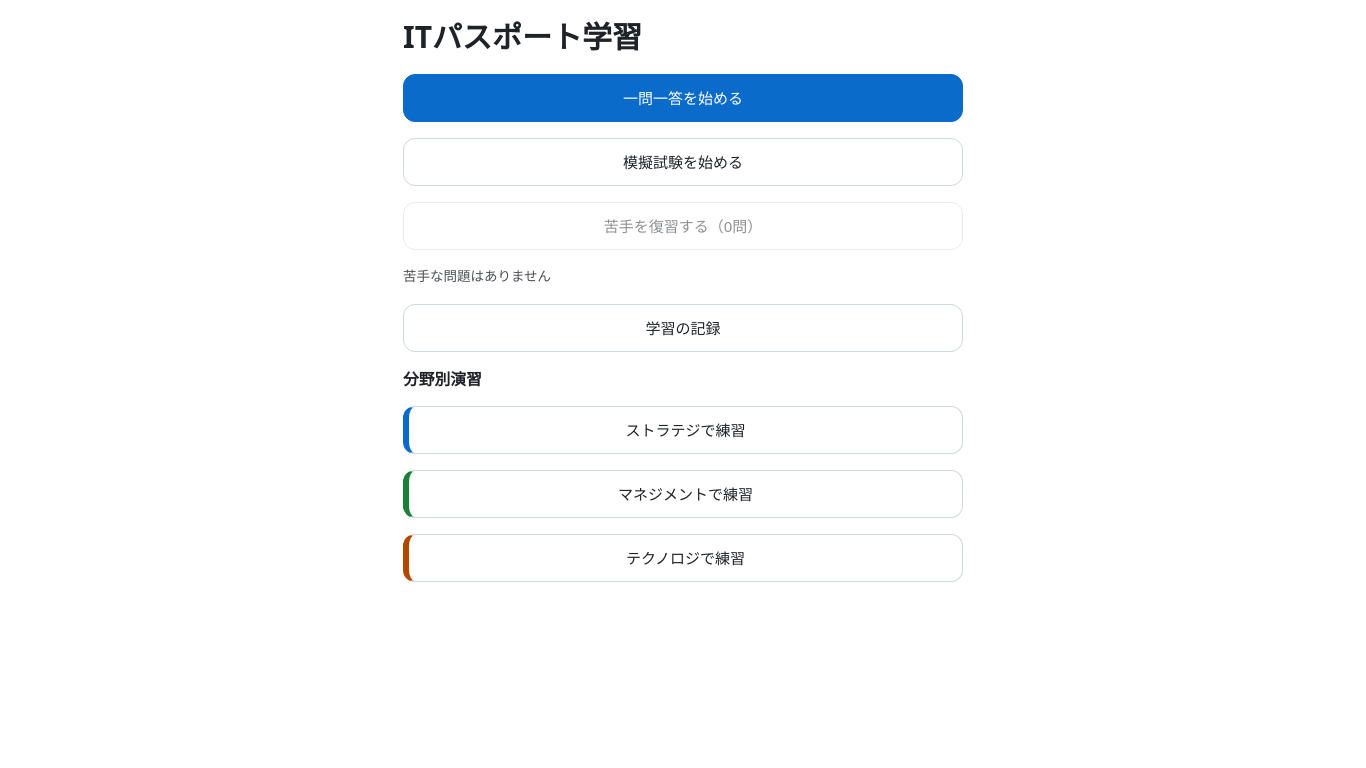
Test case: 分野別演習の履歴 › 解答するたびに正誤が保存され、間違えた問題は苦手の対象になる
Click the button "テクノロジで練習": (683, 558) [403,534,963,582]
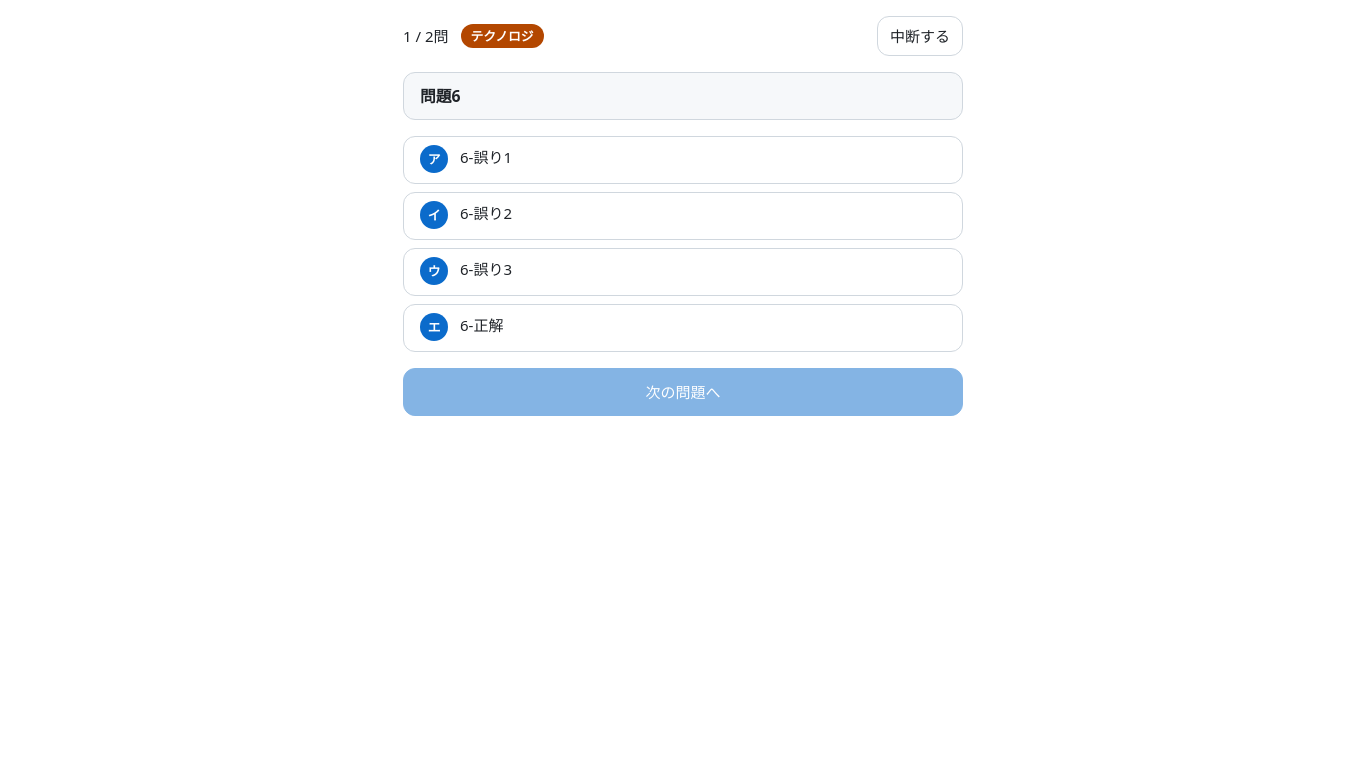
Click the button "ア 6-誤り1": (486, 157) [403,136,963,184]
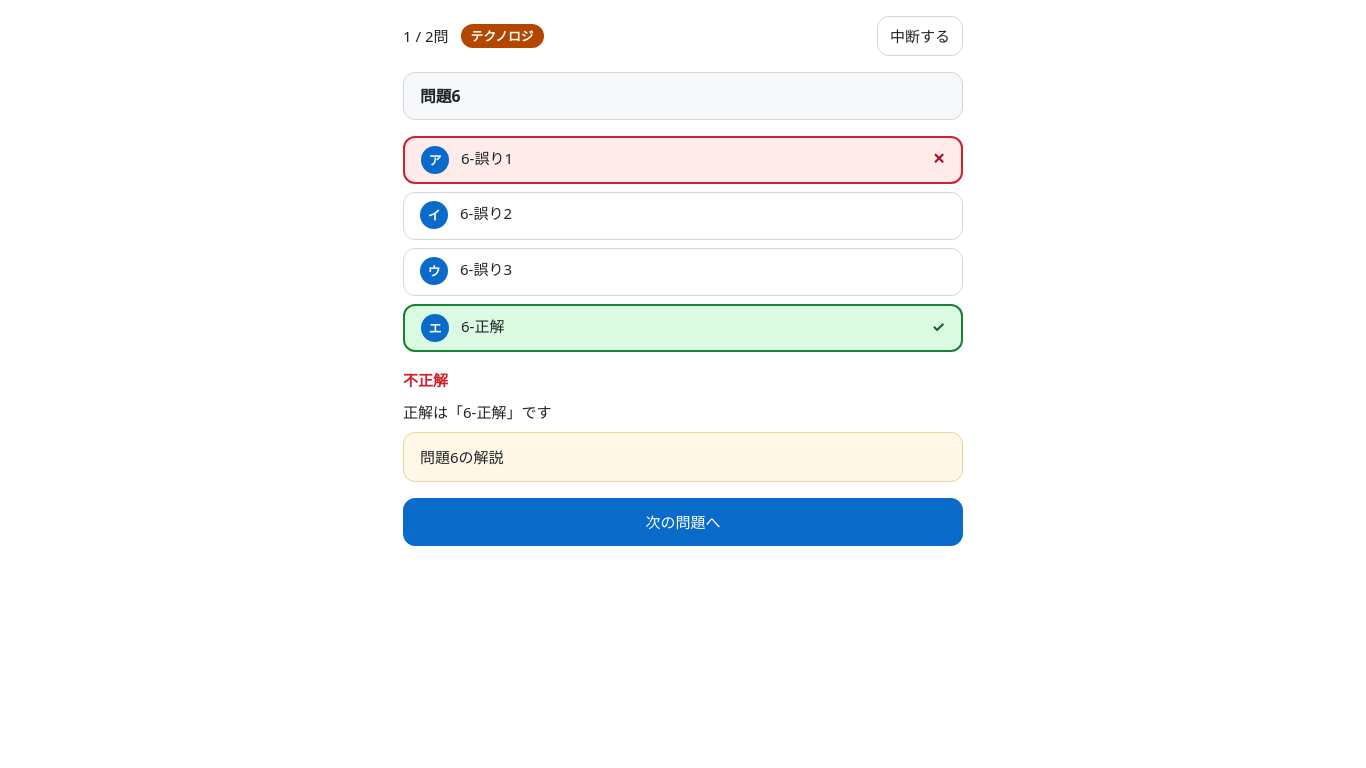
Click the button "中断する": (920, 36) [877,16,963,56]
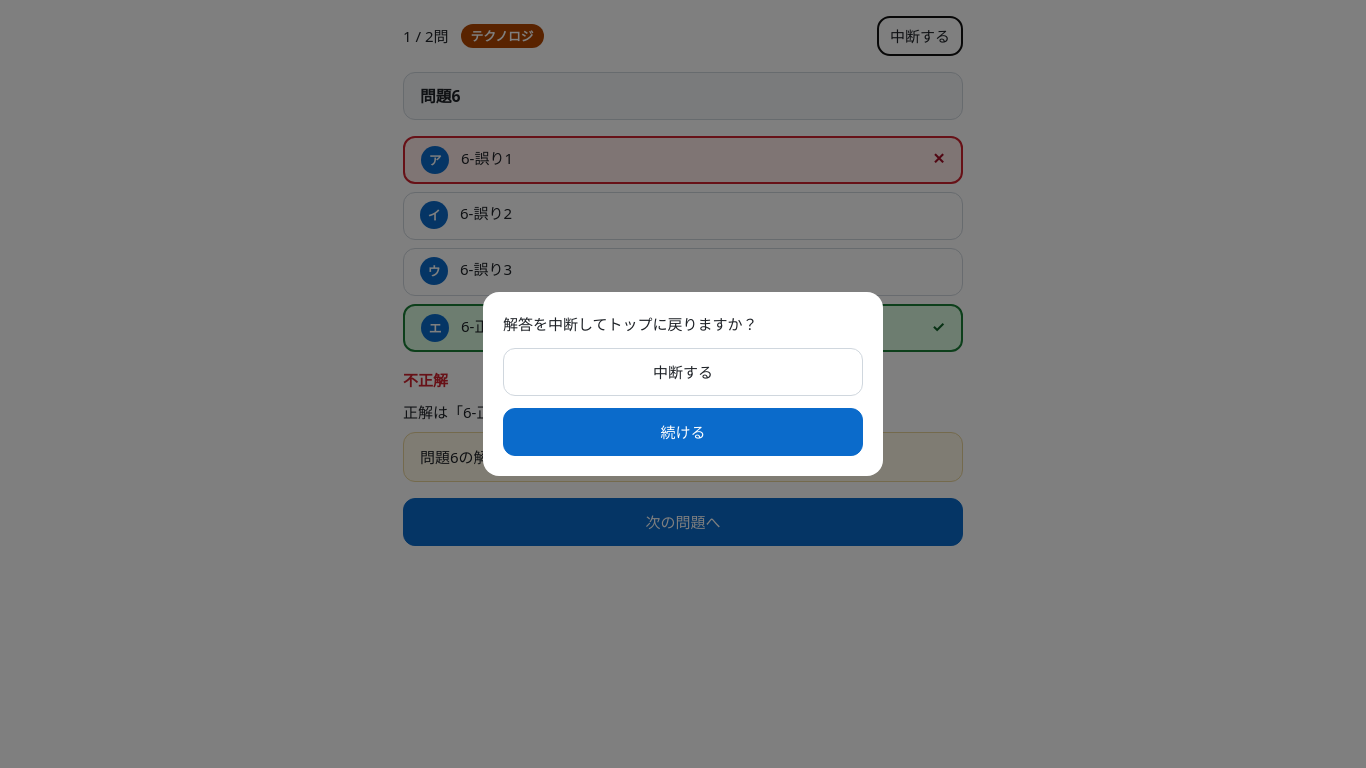
Click the button "中断する": (683, 372) [503,348,863,396]
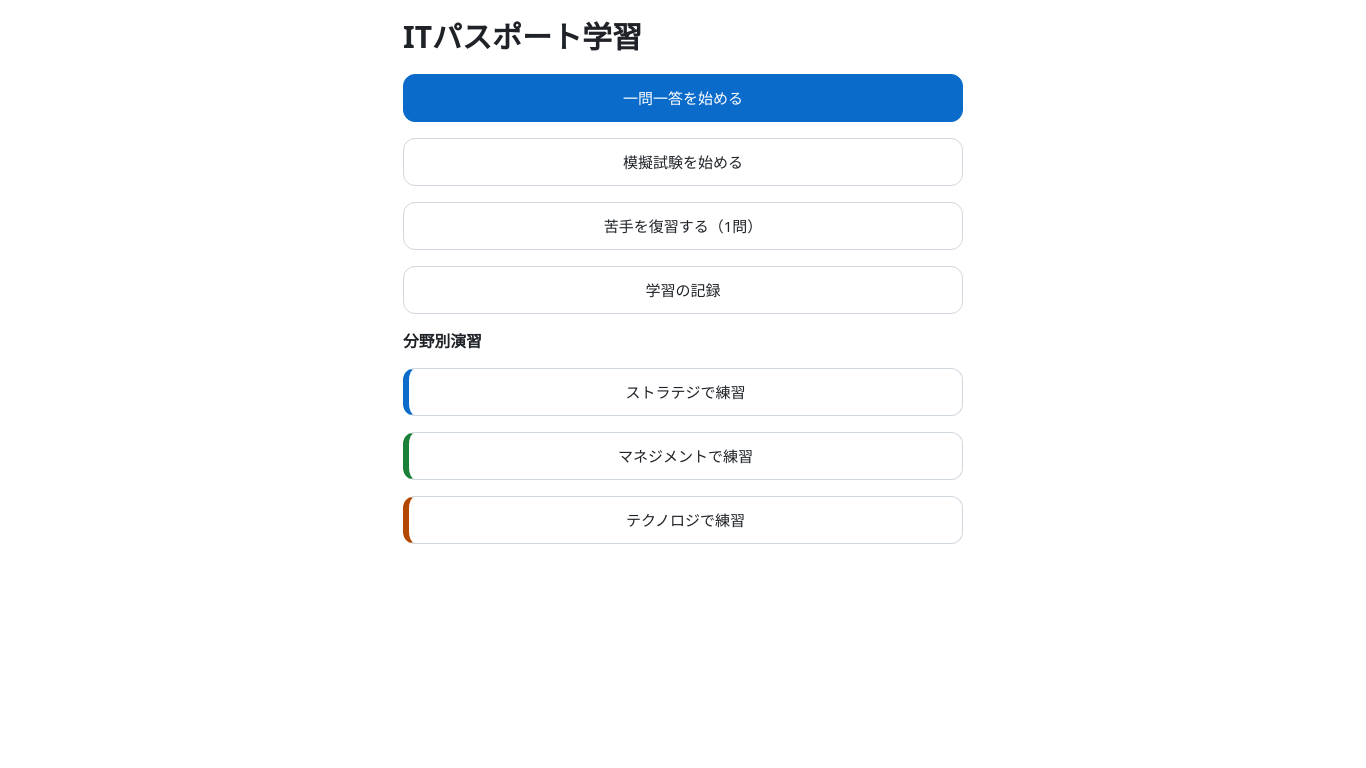
Now the button "苦手を復習する（1問）" is enabled, box [403,202,963,250]
